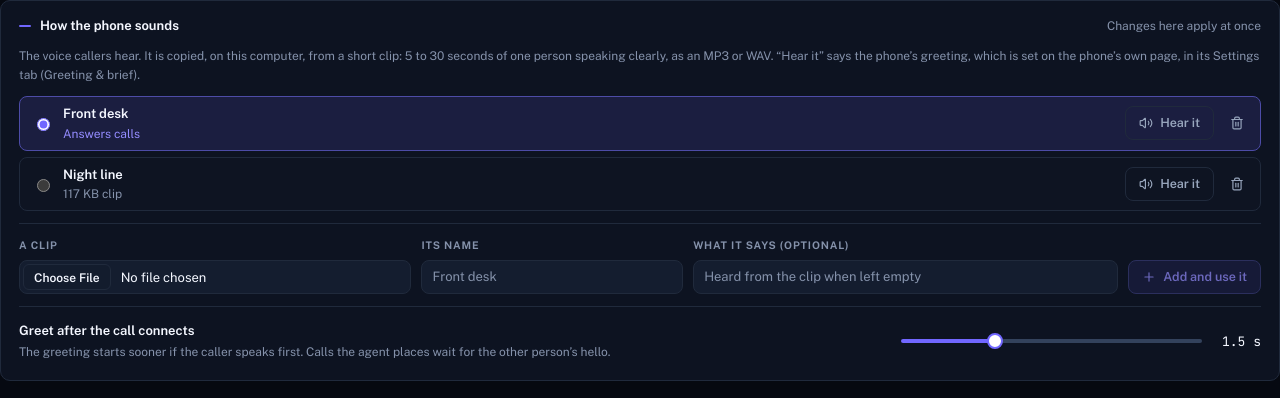
hearing a voice › asks again in the voice’s row before it removes it
The width and height of the screenshot is (1280, 398).
Click the button named "Remove Night line". click: (1237, 184)
box: [1222, 167, 1252, 201]
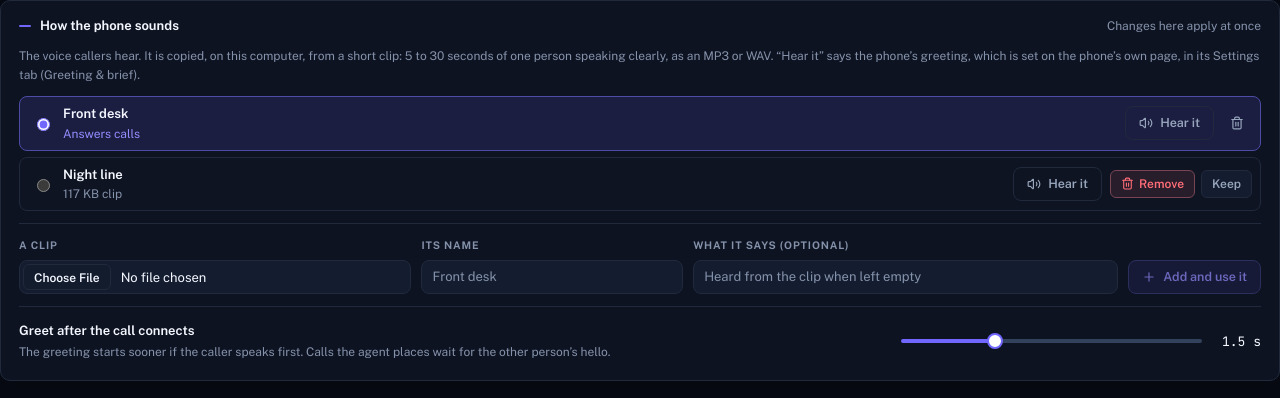
Click the button "Keep". click: (1226, 184)
box: [1201, 170, 1252, 198]
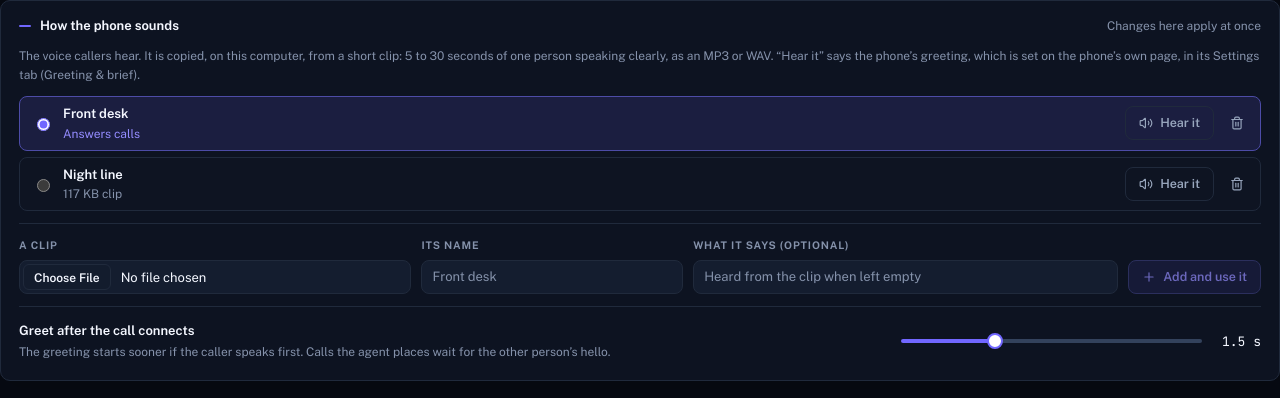
expect the text "Night line" is shown: met, box [63, 165, 123, 184]
Click the button named "Remove Night line". click: (1237, 184)
box: [1222, 167, 1252, 201]
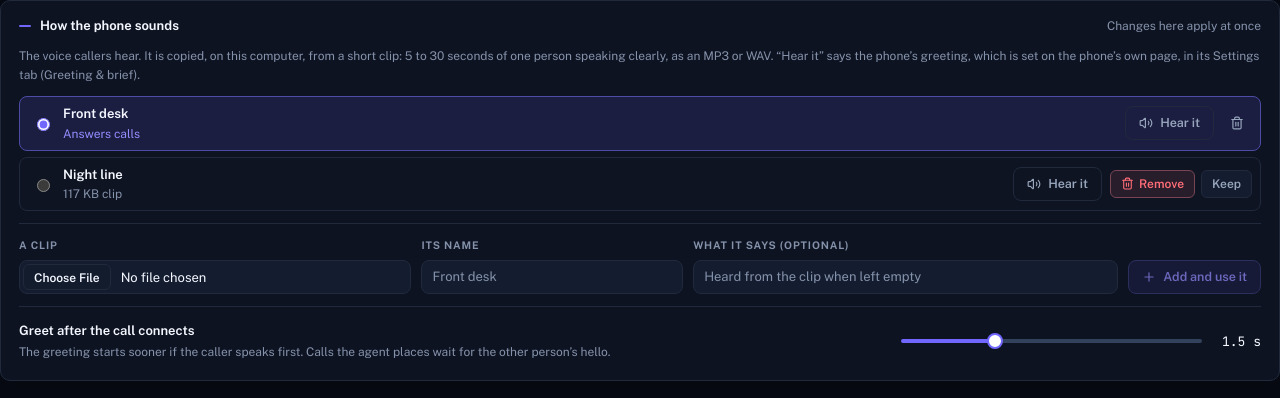
Click the button "Remove". click: (1152, 184)
box: [1110, 170, 1195, 198]
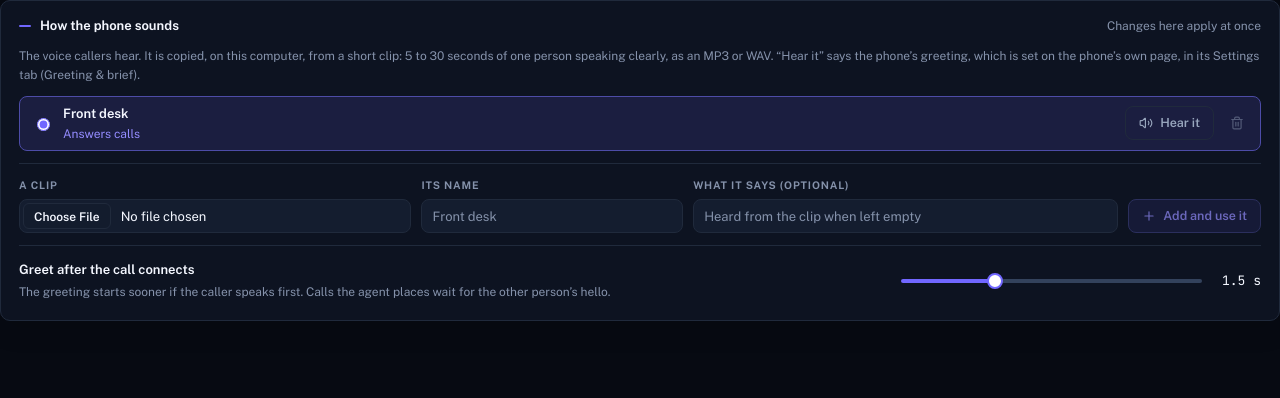
expect the text "Night line" is gone: met
